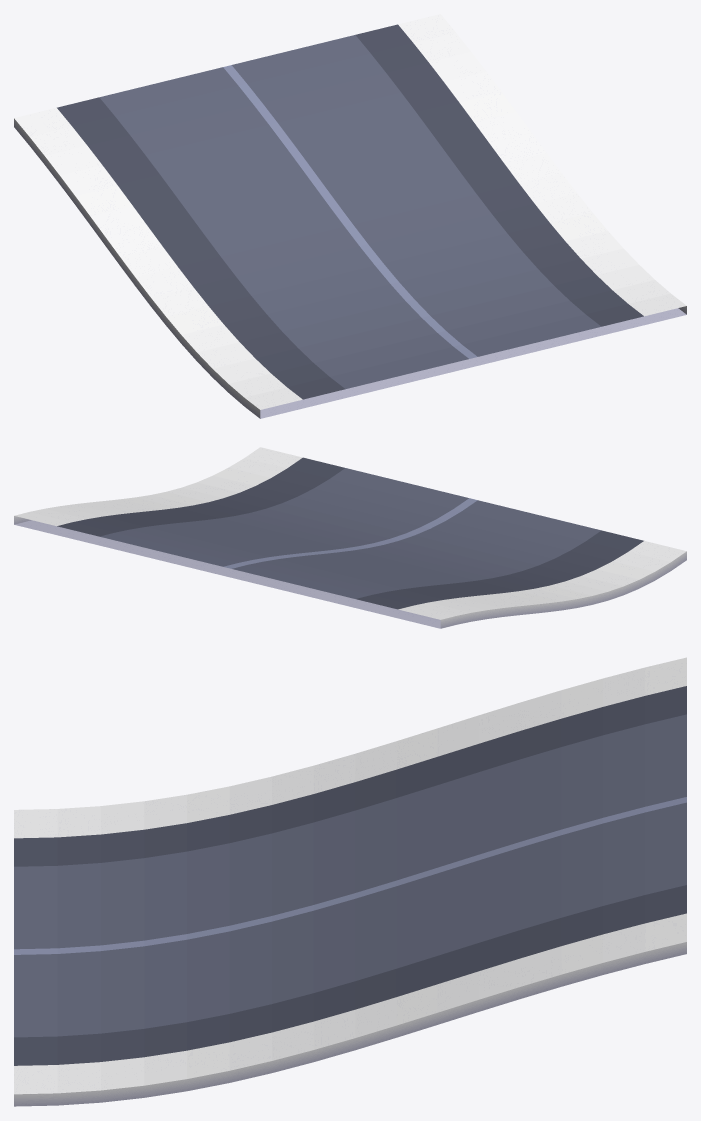
Rendered from road-Straight-Flat-BiSlopeUp-Up1-Center-Size1.glb.
3 renders of one model, top to bottom at view 1: azimuth 30°, elevation 25°; view 2: azimuth 150°, elevation 25°; view 3: azimuth 270°, elevation 25°, orthographic. The views are drawn at different scales.
Visible parts, largest first — view 1: road-Straight-Flat-BiSlopeUp-Up1-Center-Size1; view 2: road-Straight-Flat-BiSlopeUp-Up1-Center-Size1; view 3: road-Straight-Flat-BiSlopeUp-Up1-Center-Size1.
Boxes of the visible parts, x1,y1,x2,y2 form: road-Straight-Flat-BiSlopeUp-Up1-Center-Size1: (14, 14, 686, 418); road-Straight-Flat-BiSlopeUp-Up1-Center-Size1: (14, 447, 686, 628); road-Straight-Flat-BiSlopeUp-Up1-Center-Size1: (14, 657, 686, 1106).
Bounding box in the file's own units: 1 × 0.27 × 1.
1 material, 1 textured.
